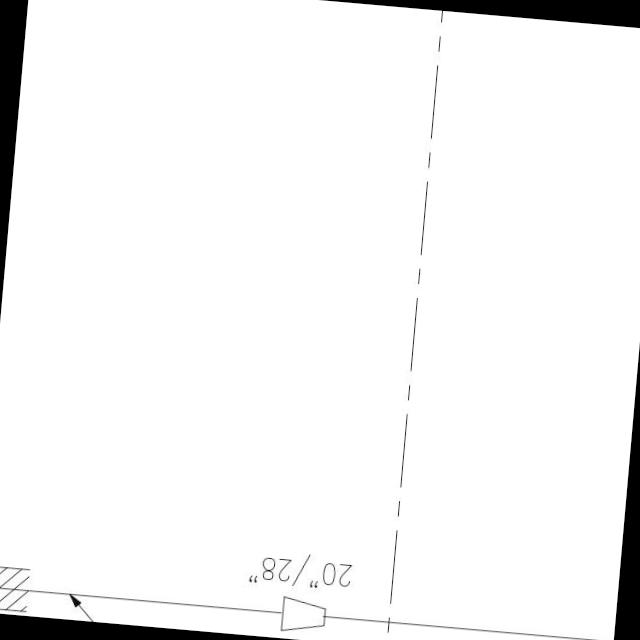SP: (274, 593, 330, 638)
